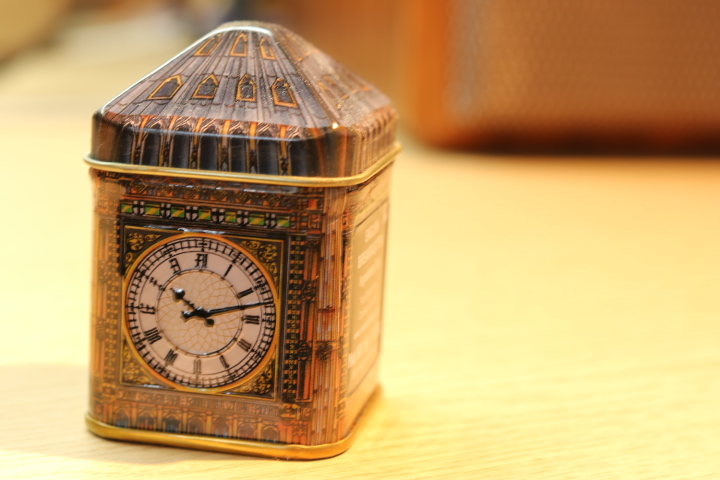Big Ben: (58, 10, 448, 470)
